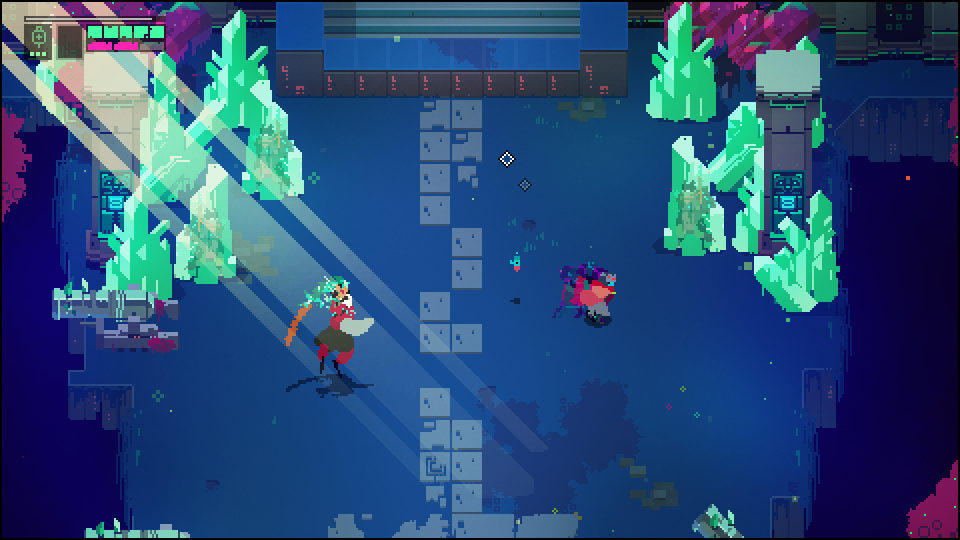hanged_man: (281, 269, 379, 394)
player: (580, 267, 619, 324)
